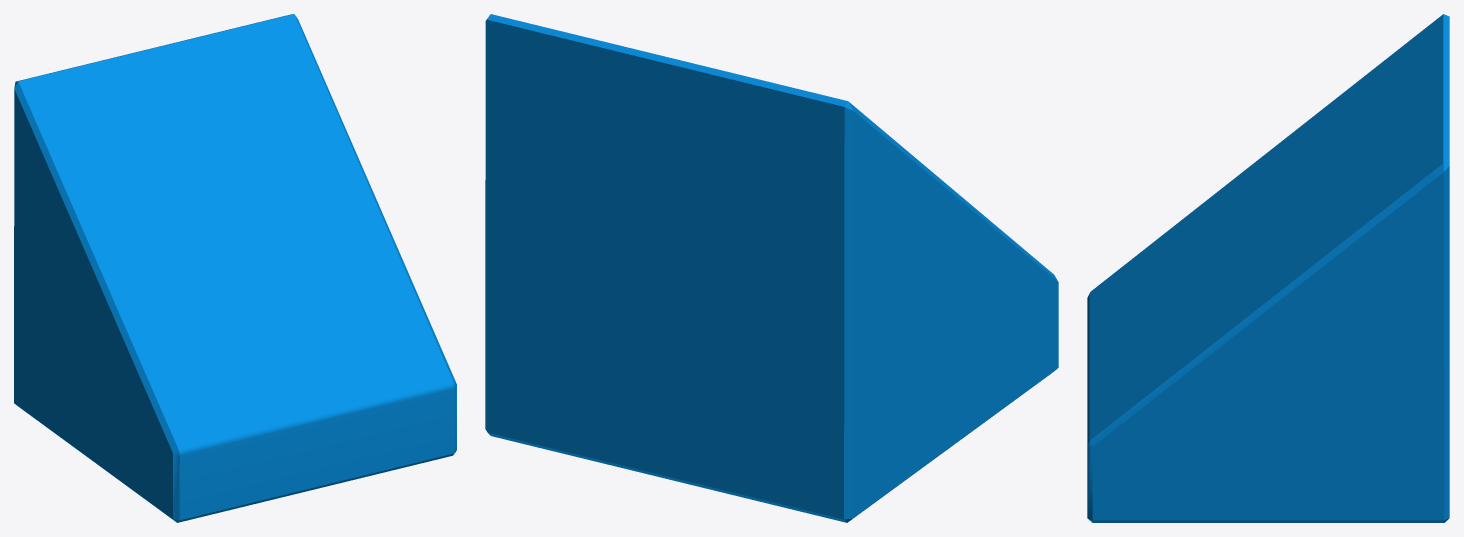
The model's file is Slide_Pyramid_08.fbx.
3 views of the same model, side by side, from view 1: azimuth 30°, elevation 25°; view 2: azimuth 150°, elevation 25°; view 3: azimuth 270°, elevation 25° (orthographic). The views are drawn at different scales.
Parts seen in each view (by area): view 1: Slide_Pyramid_08; view 2: Slide_Pyramid_08; view 3: Slide_Pyramid_08.
Boxes of the visible parts, box(x1,y1,x2,y2) form: Slide_Pyramid_08: box(14, 14, 456, 522); Slide_Pyramid_08: box(485, 14, 1058, 522); Slide_Pyramid_08: box(1087, 14, 1449, 522).
Bounding box in the file's own units: 16.85 × 18.47 × 16.86.
